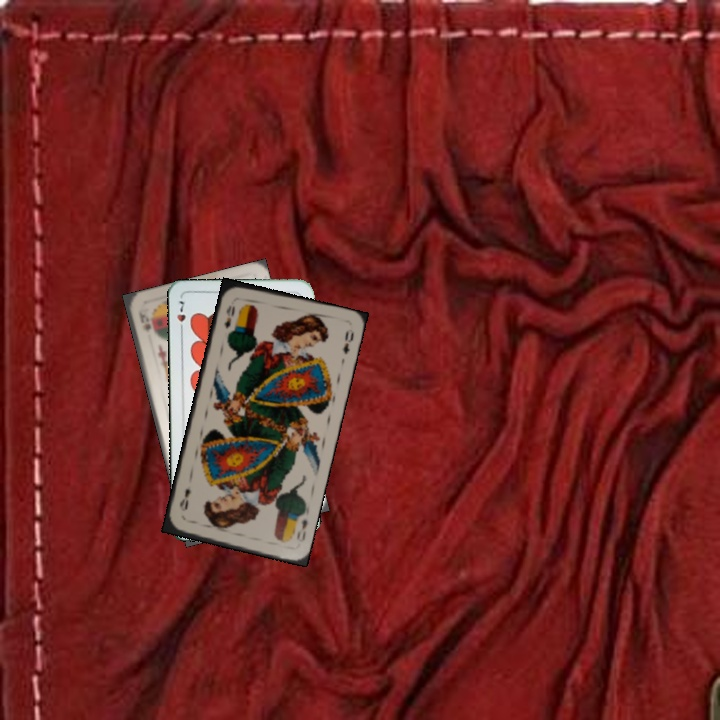EO: (220, 301, 238, 331), (292, 515, 310, 544)
H7: (173, 297, 188, 335)
SK: (135, 307, 154, 334)
